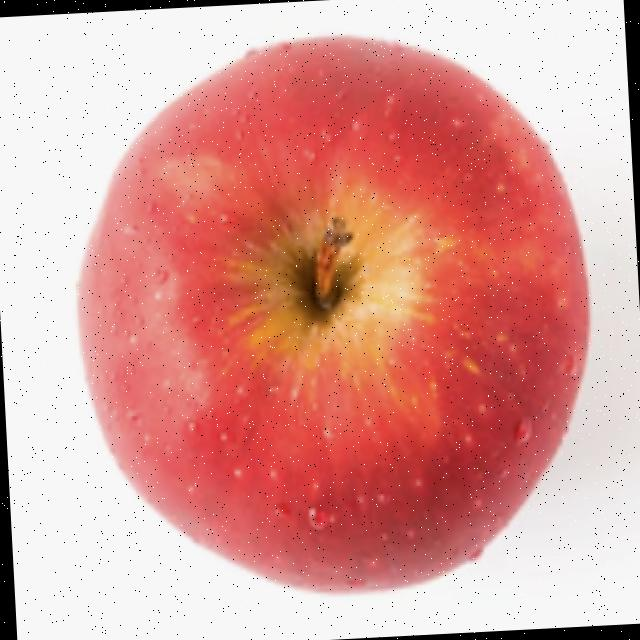Ripe: (56, 11, 607, 612)
